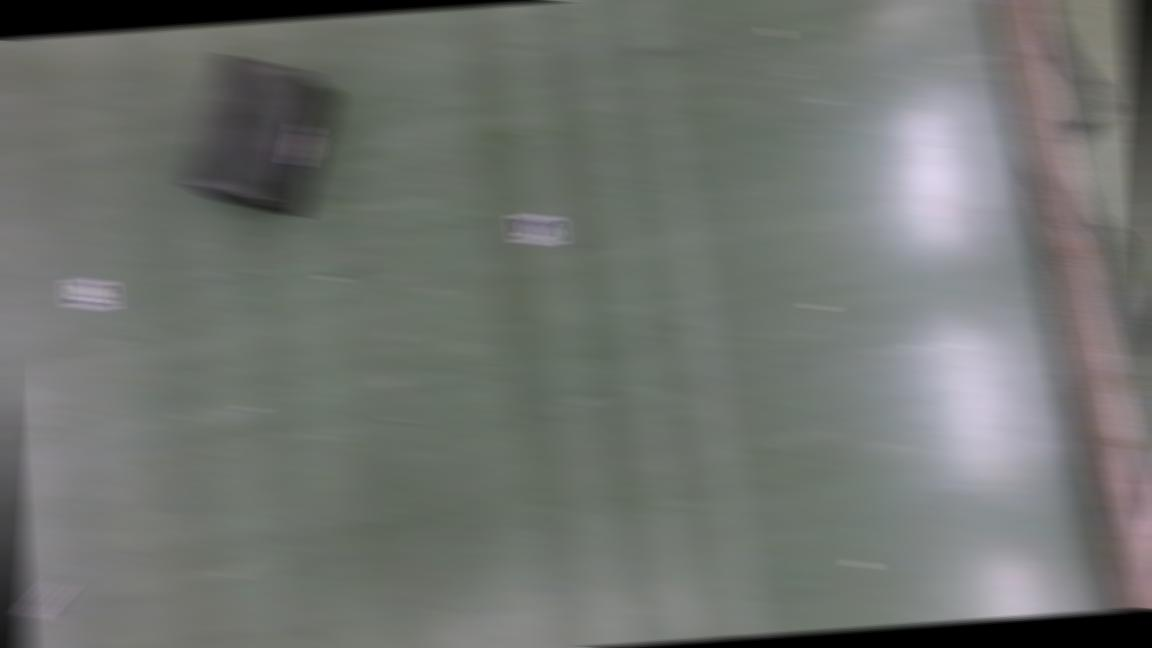probes: (18, 576, 76, 618)
rako: (170, 45, 346, 225)
